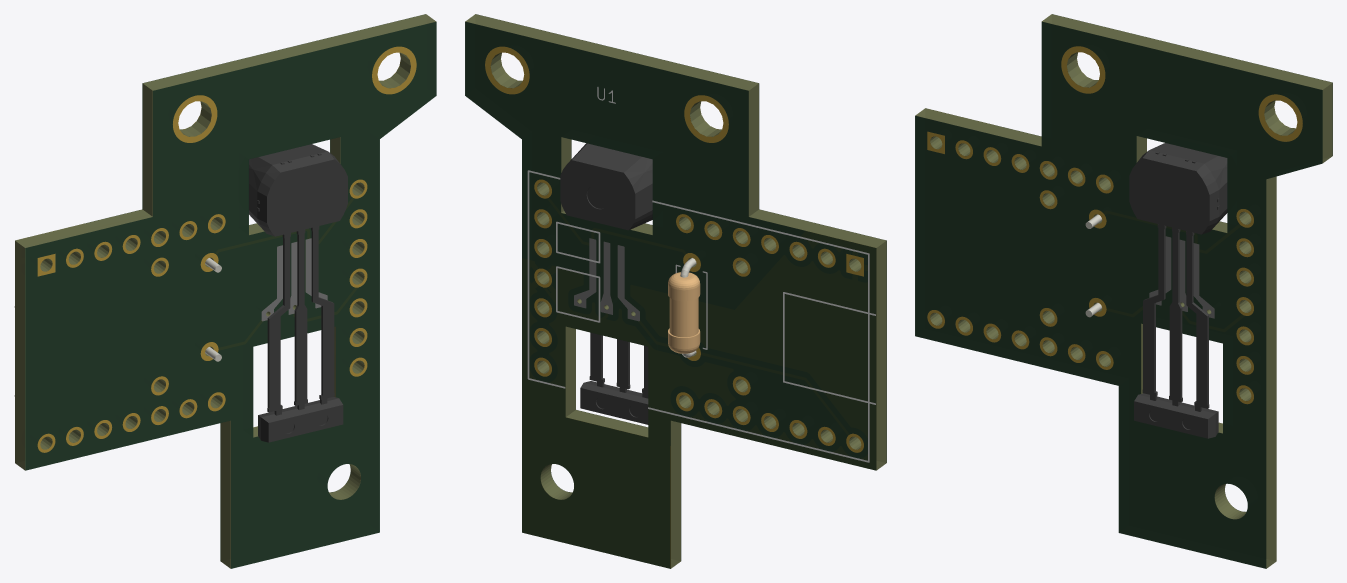
The model's file is pcb.obj.
The picture shows the model from 3 angles, left to right: view 1: azimuth 30°, elevation 25°; view 2: azimuth 150°, elevation 25°; view 3: azimuth 330°, elevation 25°; orthographic projection.
Visible parts, largest first — view 1: SHAPE_188_IndexedFaceSet, SHAPE_181_IndexedFaceSet, SHAPE_182_IndexedFaceSet, SHAPE_186_IndexedFaceSet, SHAPE_14_IndexedFaceSet, SHAPE_147_IndexedFaceSet, SHAPE_150_IndexedFaceSet, SHAPE_142_IndexedFaceSet, SHAPE_187_IndexedFaceSet, SHAPE_131_IndexedFaceSet, SHAPE_16_IndexedFaceSet, SHAPE_124_IndexedFaceSet (+1 smaller); view 2: SHAPE_185_IndexedFaceSet, SHAPE_183_IndexedFaceSet, SHAPE_181_IndexedFaceSet, SHAPE_182_IndexedFaceSet, SHAPE_189_IndexedFaceSet, SHAPE_23_IndexedFaceSet, SHAPE_184_IndexedFaceSet, SHAPE_128_IndexedFaceSet, SHAPE_16_IndexedFaceSet, SHAPE_170_IndexedFaceSet, SHAPE_188_IndexedFaceSet, SHAPE_15_IndexedFaceSet (+2 smaller); view 3: SHAPE_188_IndexedFaceSet, SHAPE_181_IndexedFaceSet, SHAPE_182_IndexedFaceSet, SHAPE_186_IndexedFaceSet, SHAPE_14_IndexedFaceSet, SHAPE_147_IndexedFaceSet, SHAPE_150_IndexedFaceSet, SHAPE_142_IndexedFaceSet, SHAPE_187_IndexedFaceSet, SHAPE_131_IndexedFaceSet, SHAPE_16_IndexedFaceSet, SHAPE_124_IndexedFaceSet (+1 smaller).
Boxes of the visible parts, x1,y1,x2,y2 form: SHAPE_188_IndexedFaceSet: (25, 21, 436, 568); SHAPE_181_IndexedFaceSet: (25, 21, 435, 568); SHAPE_182_IndexedFaceSet: (15, 14, 435, 568); SHAPE_186_IndexedFaceSet: (37, 46, 416, 452); SHAPE_14_IndexedFaceSet: (267, 159, 347, 236); SHAPE_147_IndexedFaceSet: (269, 233, 290, 415); SHAPE_150_IndexedFaceSet: (312, 226, 334, 404); SHAPE_142_IndexedFaceSet: (295, 229, 307, 409); SHAPE_187_IndexedFaceSet: (261, 238, 327, 321); SHAPE_131_IndexedFaceSet: (268, 405, 343, 442); SHAPE_16_IndexedFaceSet: (258, 144, 327, 164); SHAPE_124_IndexedFaceSet: (261, 398, 342, 422); SHAPE_185_IndexedFaceSet: (465, 21, 876, 568); SHAPE_183_IndexedFaceSet: (485, 46, 875, 567); SHAPE_181_IndexedFaceSet: (466, 22, 876, 568); SHAPE_182_IndexedFaceSet: (465, 14, 886, 568); SHAPE_189_IndexedFaceSet: (527, 87, 875, 462); SHAPE_23_IndexedFaceSet: (560, 160, 635, 230); SHAPE_184_IndexedFaceSet: (574, 238, 639, 321); SHAPE_128_IndexedFaceSet: (580, 388, 648, 424); SHAPE_16_IndexedFaceSet: (572, 143, 641, 172); SHAPE_170_IndexedFaceSet: (669, 297, 698, 337); SHAPE_188_IndexedFaceSet: (477, 14, 886, 560); SHAPE_15_IndexedFaceSet: (624, 157, 652, 193); SHAPE_188_IndexedFaceSet: (915, 21, 1322, 568); SHAPE_181_IndexedFaceSet: (916, 22, 1321, 567); SHAPE_182_IndexedFaceSet: (915, 14, 1332, 568); SHAPE_186_IndexedFaceSet: (927, 46, 1302, 404); SHAPE_14_IndexedFaceSet: (1129, 158, 1209, 234); SHAPE_147_IndexedFaceSet: (1142, 224, 1164, 400); SHAPE_150_IndexedFaceSet: (1186, 231, 1207, 411); SHAPE_142_IndexedFaceSet: (1169, 227, 1181, 406); SHAPE_187_IndexedFaceSet: (1149, 236, 1214, 318); SHAPE_131_IndexedFaceSet: (1134, 401, 1207, 438); SHAPE_16_IndexedFaceSet: (1149, 143, 1217, 163); SHAPE_124_IndexedFaceSet: (1134, 395, 1214, 418).
Bounding box in the file's own units: 0.0368 × 0.0425 × 0.00609.
